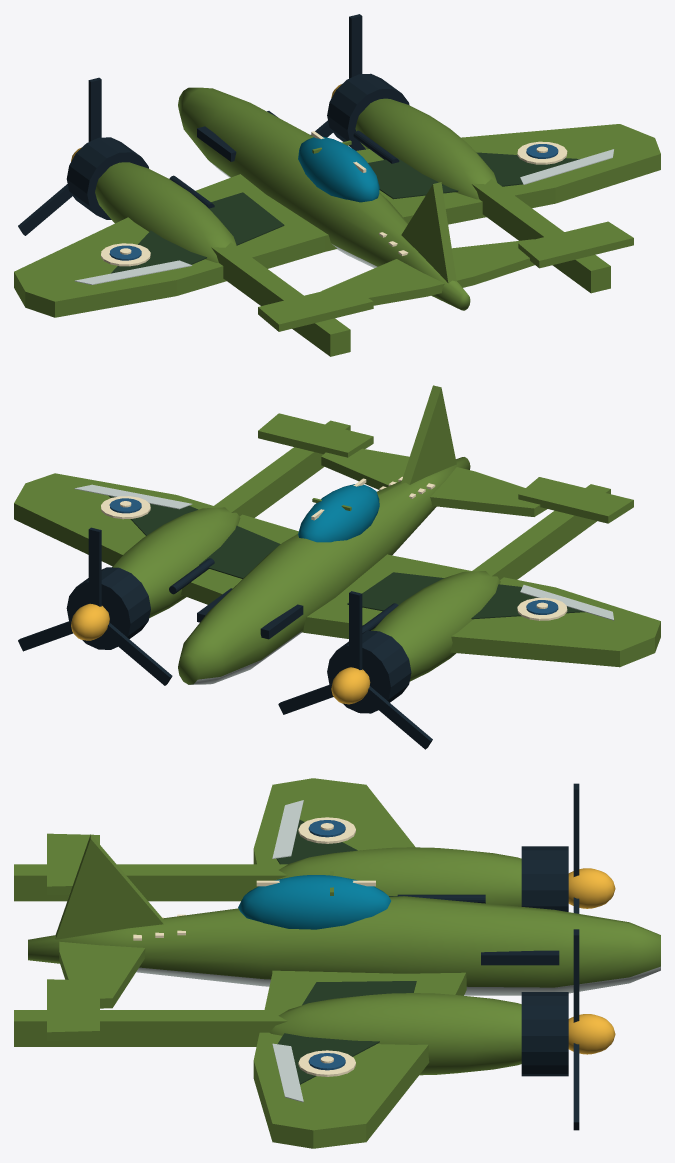
File: turtle.glb
3 renders of one model, top to bottom at view 1: azimuth 30°, elevation 25°; view 2: azimuth 150°, elevation 25°; view 3: azimuth 270°, elevation 25°, orthographic. The views are drawn at different scales.
Parts seen in each view (by area): view 1: turtle-airframe, blade_0_0.002, blade_1_0, blade_0_2.002; view 2: turtle-airframe, blade_0_2.002, blade_1_2, blade_0_0.002, blade_1_0, blade_0_1.002, blade_1_1; view 3: turtle-airframe, blade_1_0, blade_0_0.002, blade_1_1.
Boxes of the visible parts, box(x1,y1,x2,y2) form: turtle-airframe: box(14, 73, 660, 356); blade_0_0.002: box(88, 77, 101, 141); blade_1_0: box(349, 14, 362, 78); blade_0_2.002: box(18, 184, 72, 235); turtle-airframe: box(14, 385, 660, 713); blade_0_2.002: box(364, 686, 432, 749); blade_1_2: box(104, 622, 172, 685); blade_0_0.002: box(349, 591, 362, 669); blade_1_0: box(88, 527, 101, 606); blade_0_1.002: box(278, 684, 333, 714); blade_1_1: box(18, 620, 73, 651); turtle-airframe: box(14, 778, 660, 1148); blade_1_0: box(573, 929, 579, 1022); blade_0_0.002: box(573, 783, 579, 876); blade_1_1: box(573, 1043, 579, 1130).
Bounding box in the file's own units: 2.66 × 0.6389 × 2.07.
